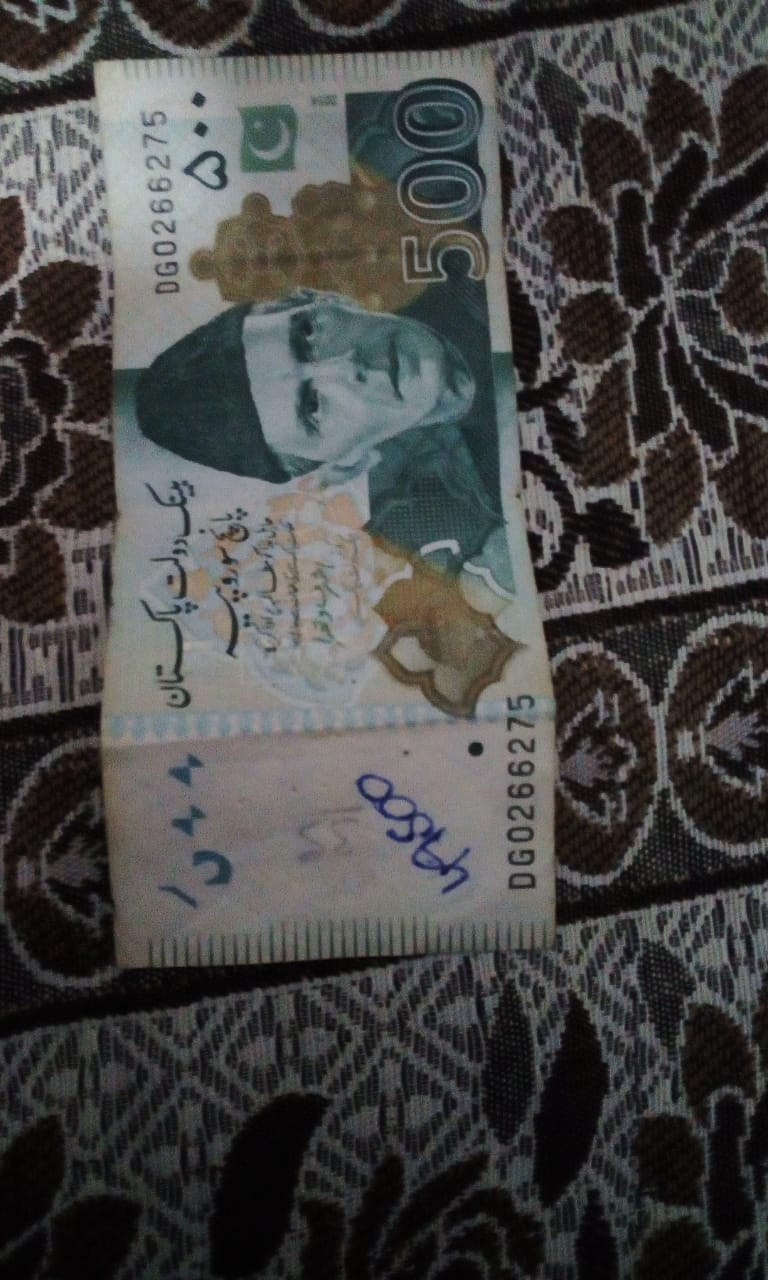500 rupee: (87, 52, 575, 978)
